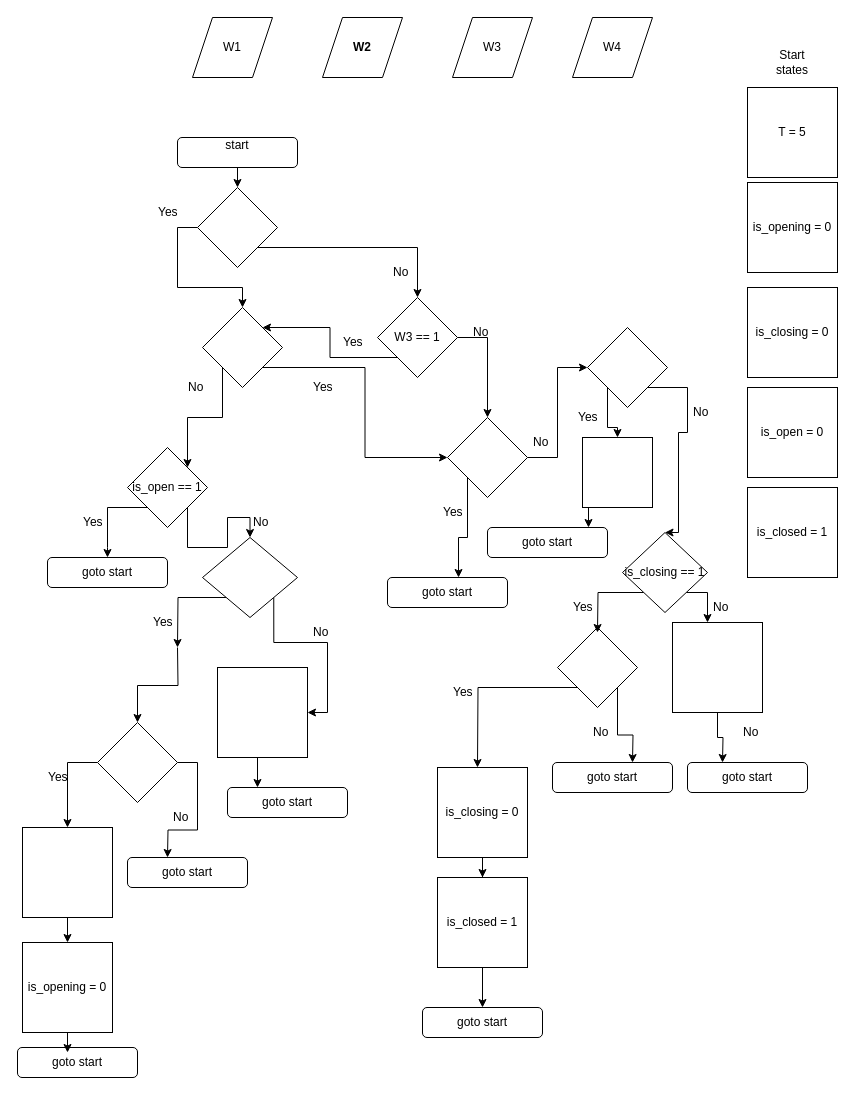
This 855x1095 diagram has some shape labels left out. The shapes that lost their labels are listed below. From the top down, each one's centre as x and y in pixels, then its label:
At (237,227): "W1 == 1".
At (242,347): "W4 == 1".
At (627,367): "W2 == 1".
At (487,457): "is_closed == 1".
At (617,472): "is_closing=0".
At (250,577): "is_opening == 1".
At (597,667): "T >= 5".
At (717,667): "is_closing = 1".
At (262,712): "is_opening = 1".
At (137,762): "T <= 0".
At (67,872): "is_open = 1".
